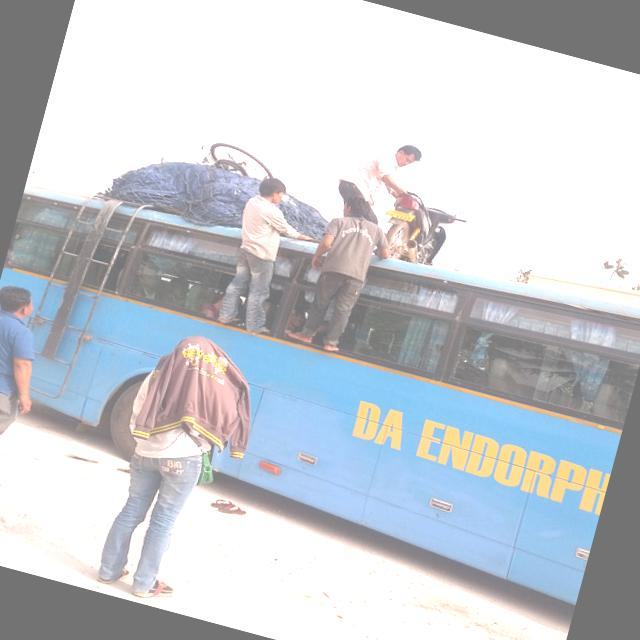Vehicle: (0, 142, 640, 607), (372, 180, 482, 275)
